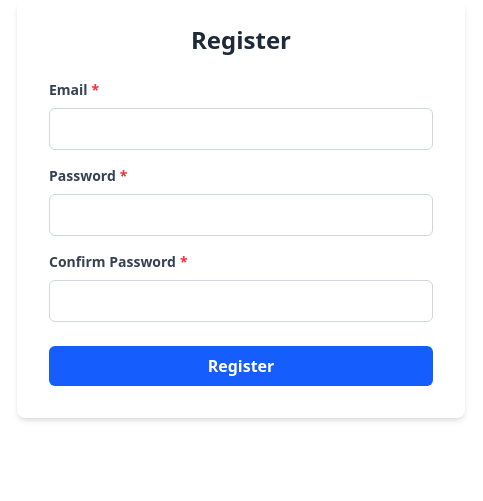
RegisterForm › clears password mismatch error when user types in password field
The width and height of the screenshot is (483, 501).
Type "test@example.com" into the field labelled "Email*". click: x=241, y=129
box: x1=49 y1=108 x2=433 y2=150
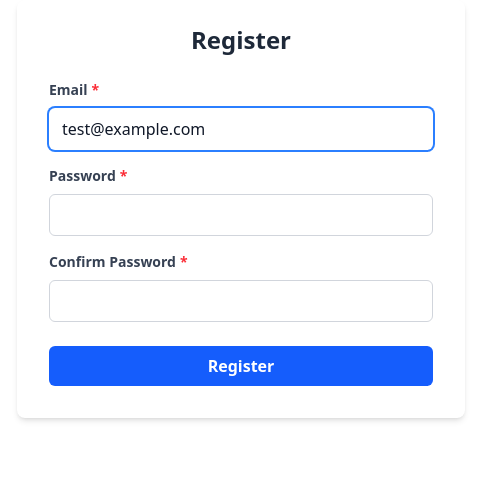
Type "pass1" into the password field labelled "Password*". click: x=241, y=215
box: x1=49 y1=194 x2=433 y2=236
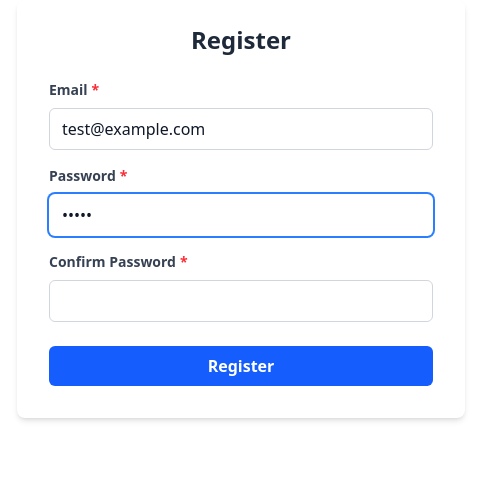
Type "pass2" into the password field labelled "Confirm Password*". click: x=241, y=301
box: x1=49 y1=280 x2=433 y2=322
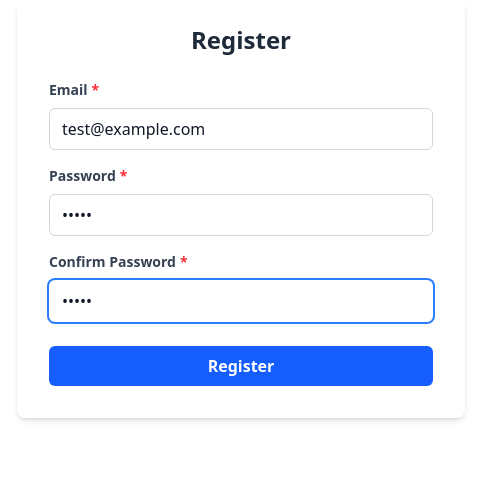
Click the button "Register". click: x=241, y=366
box: x1=49 y1=346 x2=433 y2=386
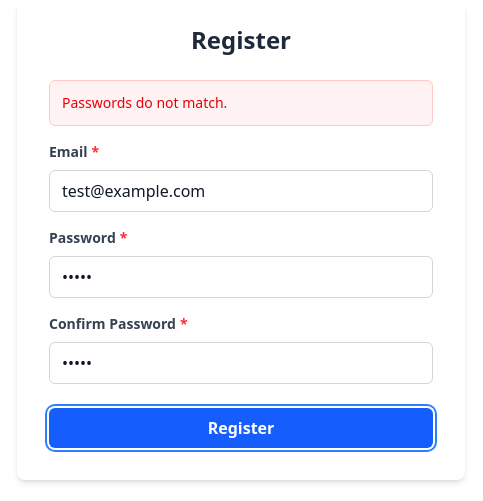
Check: the text "Passwords do not match." is shown, box x1=62 y1=93 x2=227 y2=112
Note: Type in password field to clear error
Type "23" into the password field labelled "Password*". click: x=241, y=277
box: x1=49 y1=256 x2=433 y2=298
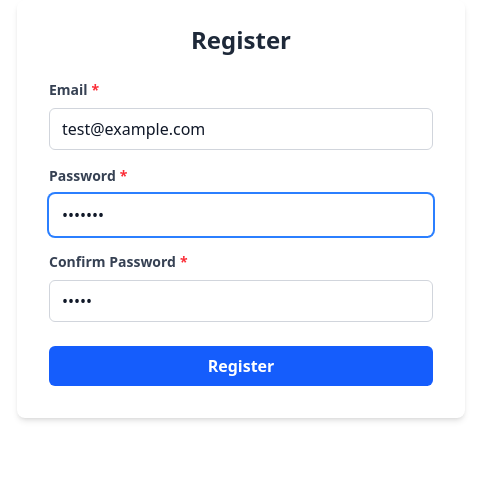
Check: the text "Passwords do not match." is gone
